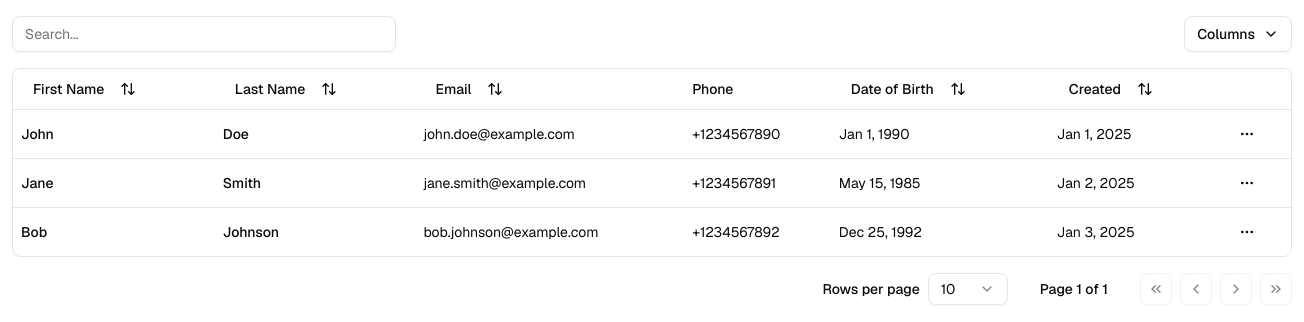
PatientTable › Filtering Functionality › filters by email
This screenshot has width=1304, height=322.
Type "bob.johnson" into the field with placeholder "Search..." at (204, 34), box [12,16,396,52]
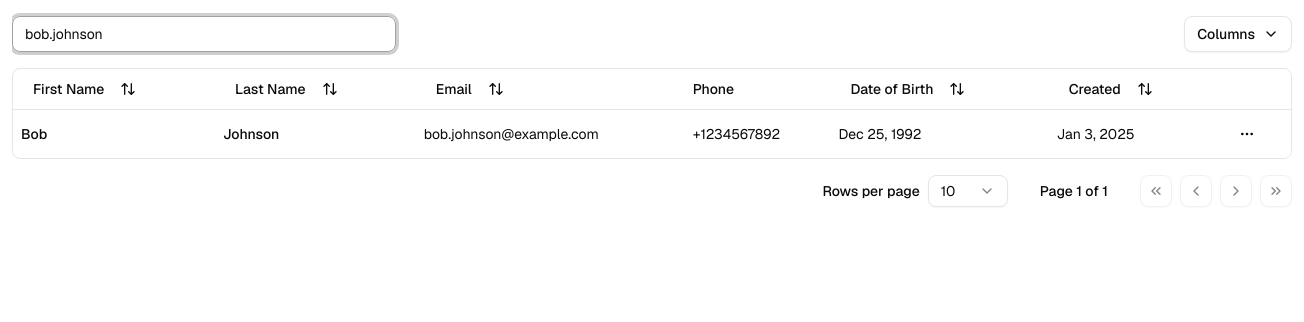
Expected: the text "Bob" is shown, [21,124,47,142]
Expected: the text "Jane" is gone
